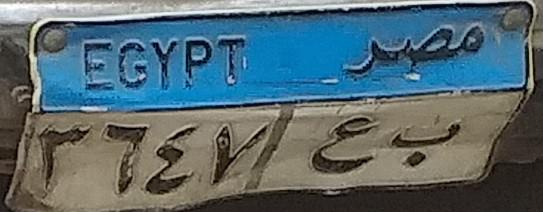3: (28, 119, 93, 202)
4: (144, 118, 211, 201)
6: (87, 118, 145, 194)
7: (209, 119, 264, 186)
ب: (387, 101, 470, 175)
ع: (303, 106, 377, 181)
